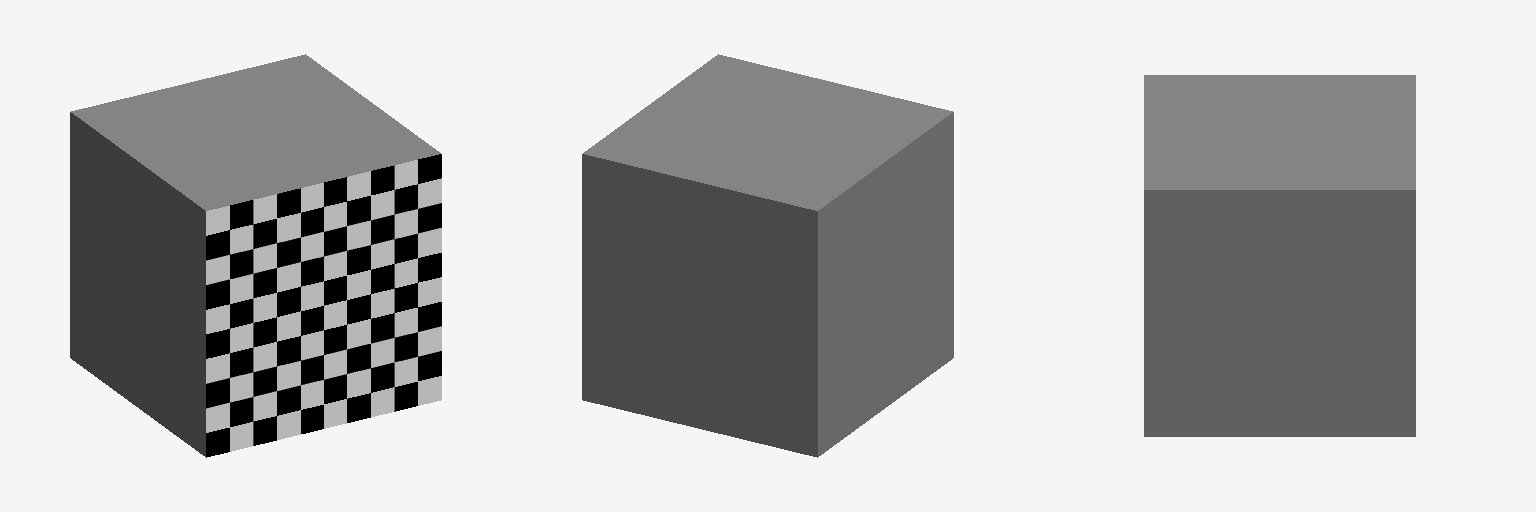
3 renders of one model, left to right at view 1: azimuth 30°, elevation 25°; view 2: azimuth 150°, elevation 25°; view 3: azimuth 270°, elevation 25°, orthographic.
Visible parts, largest first — view 1: table; view 2: table; view 3: table.
Part boxes in pixels (bbox=[...]): table: bbox=[70, 54, 441, 457]; table: bbox=[582, 54, 953, 457]; table: bbox=[1144, 75, 1415, 436].
Bounding box in the file's own units: 1 × 1 × 1.
1 materials, 1 textured.